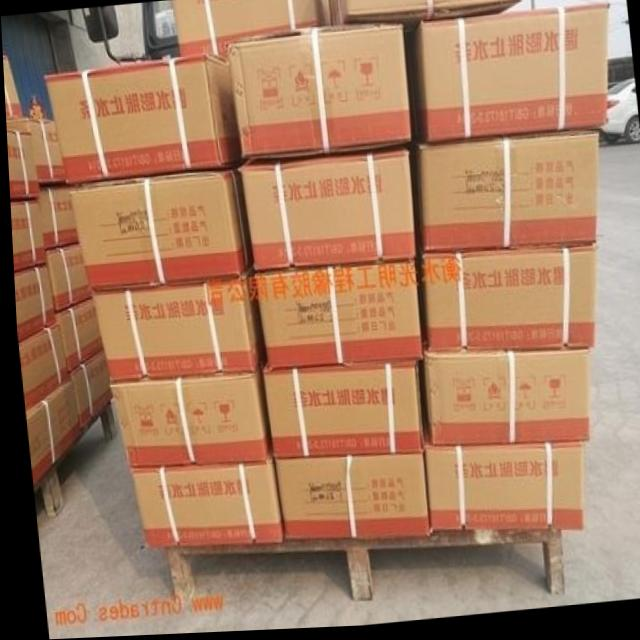box: (409, 8, 609, 146), (42, 55, 238, 187), (228, 25, 410, 162), (406, 134, 597, 256), (65, 171, 249, 292), (237, 149, 413, 272), (86, 266, 262, 383), (411, 248, 594, 355), (251, 263, 419, 372), (417, 426, 581, 535), (412, 354, 585, 449), (106, 366, 265, 469), (257, 361, 419, 461), (126, 455, 279, 549), (269, 455, 425, 545), (172, 0, 331, 62), (329, 0, 522, 36), (21, 383, 77, 487), (15, 324, 65, 411), (5, 117, 64, 183), (53, 300, 99, 373), (64, 352, 107, 430), (11, 266, 53, 343), (42, 243, 86, 312), (37, 184, 76, 249), (8, 200, 43, 272), (5, 125, 38, 201), (2, 55, 23, 118)
